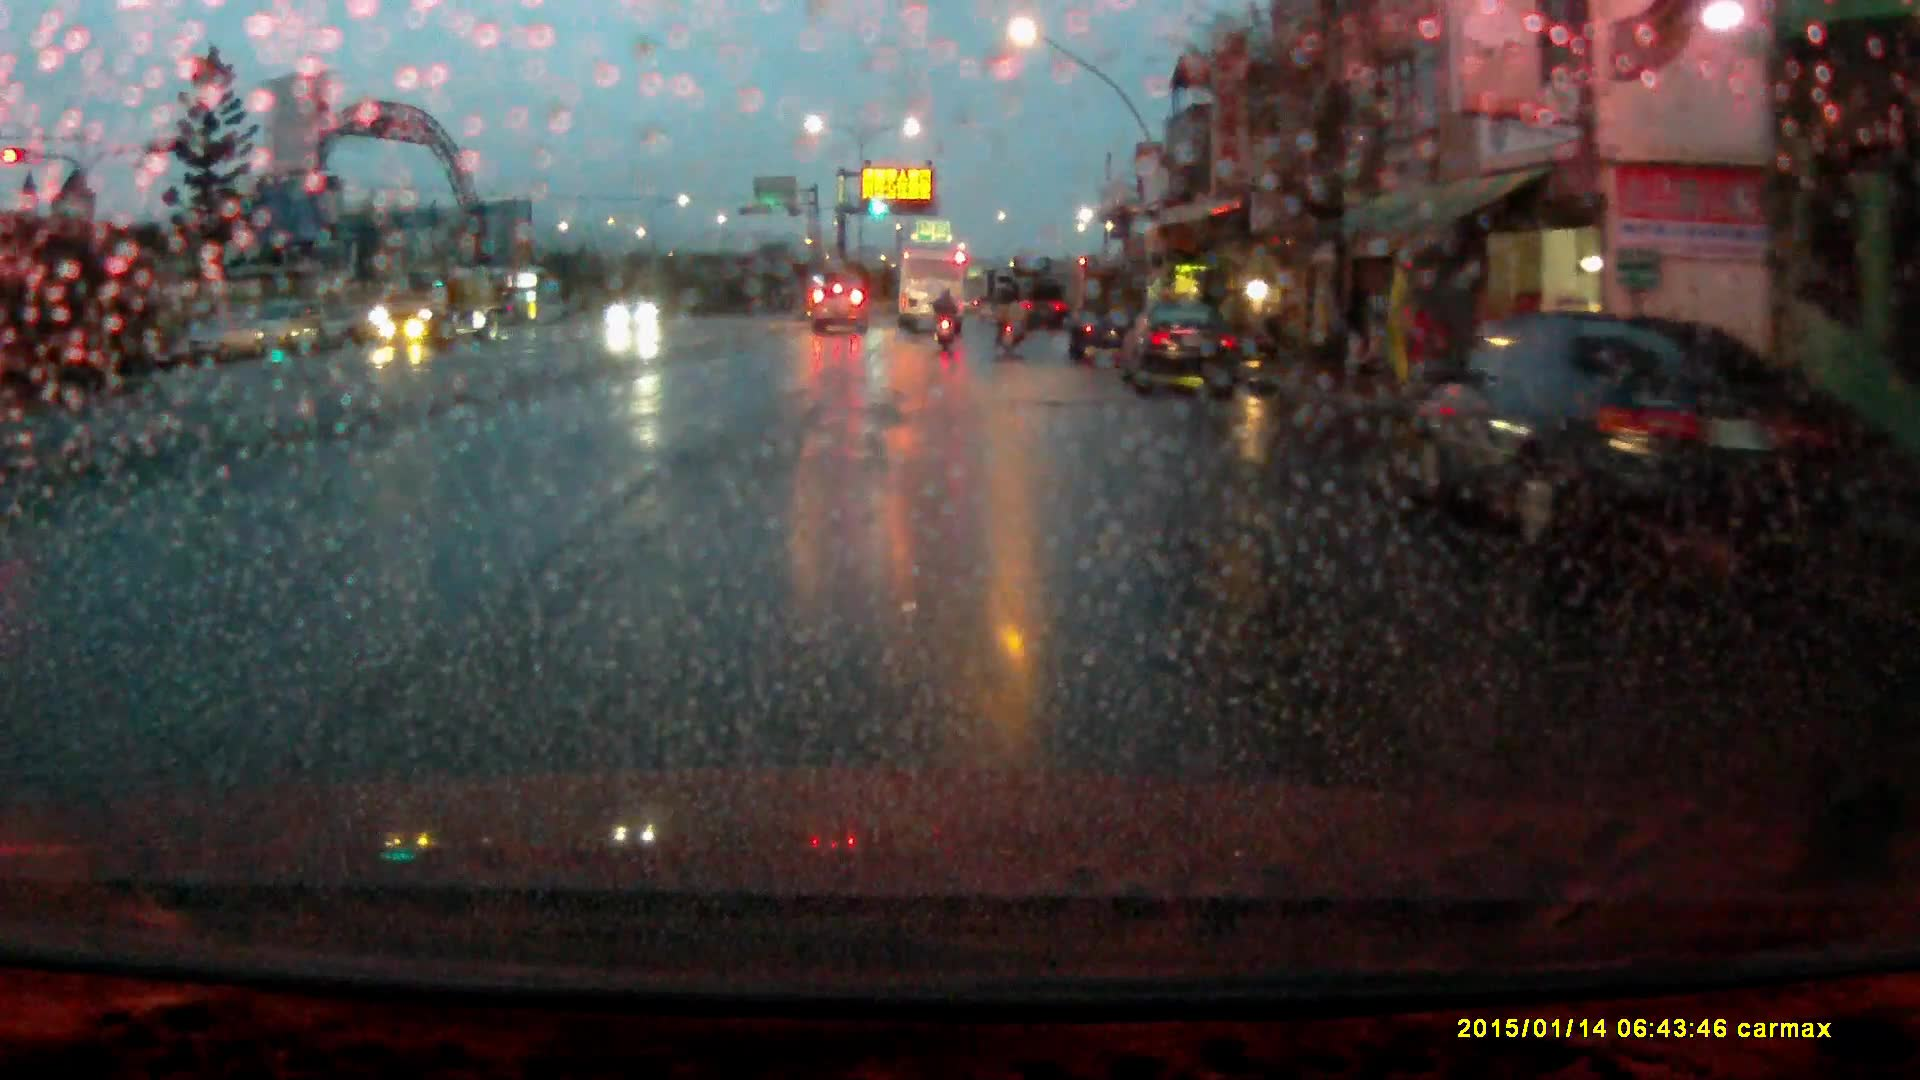rider: (991, 276, 1025, 358), (932, 288, 961, 351)
vehicle: (1405, 314, 1830, 586), (365, 264, 508, 345), (1123, 306, 1246, 394), (1067, 264, 1150, 363), (897, 245, 968, 333), (174, 310, 259, 365), (1006, 256, 1070, 329), (809, 280, 873, 337), (255, 300, 329, 351), (610, 293, 669, 330)
